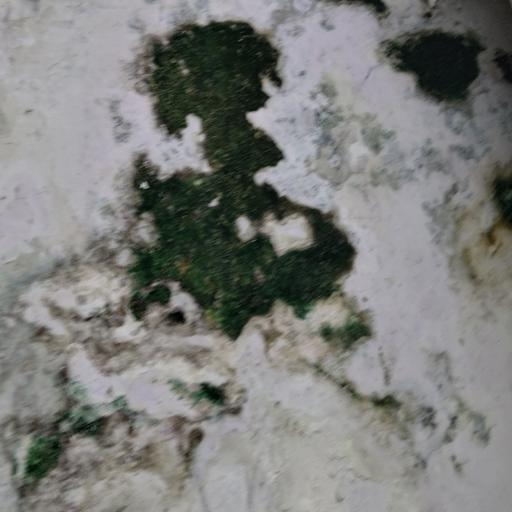algae: (116, 10, 412, 431)
